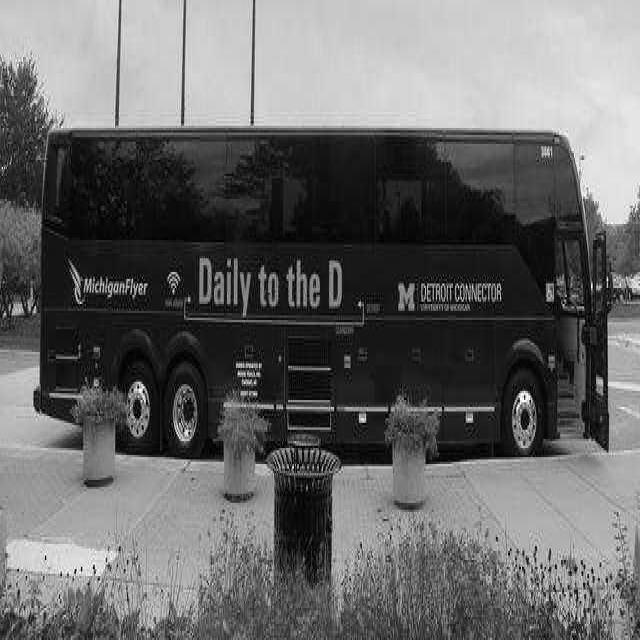Bus: (34, 126, 608, 454)
